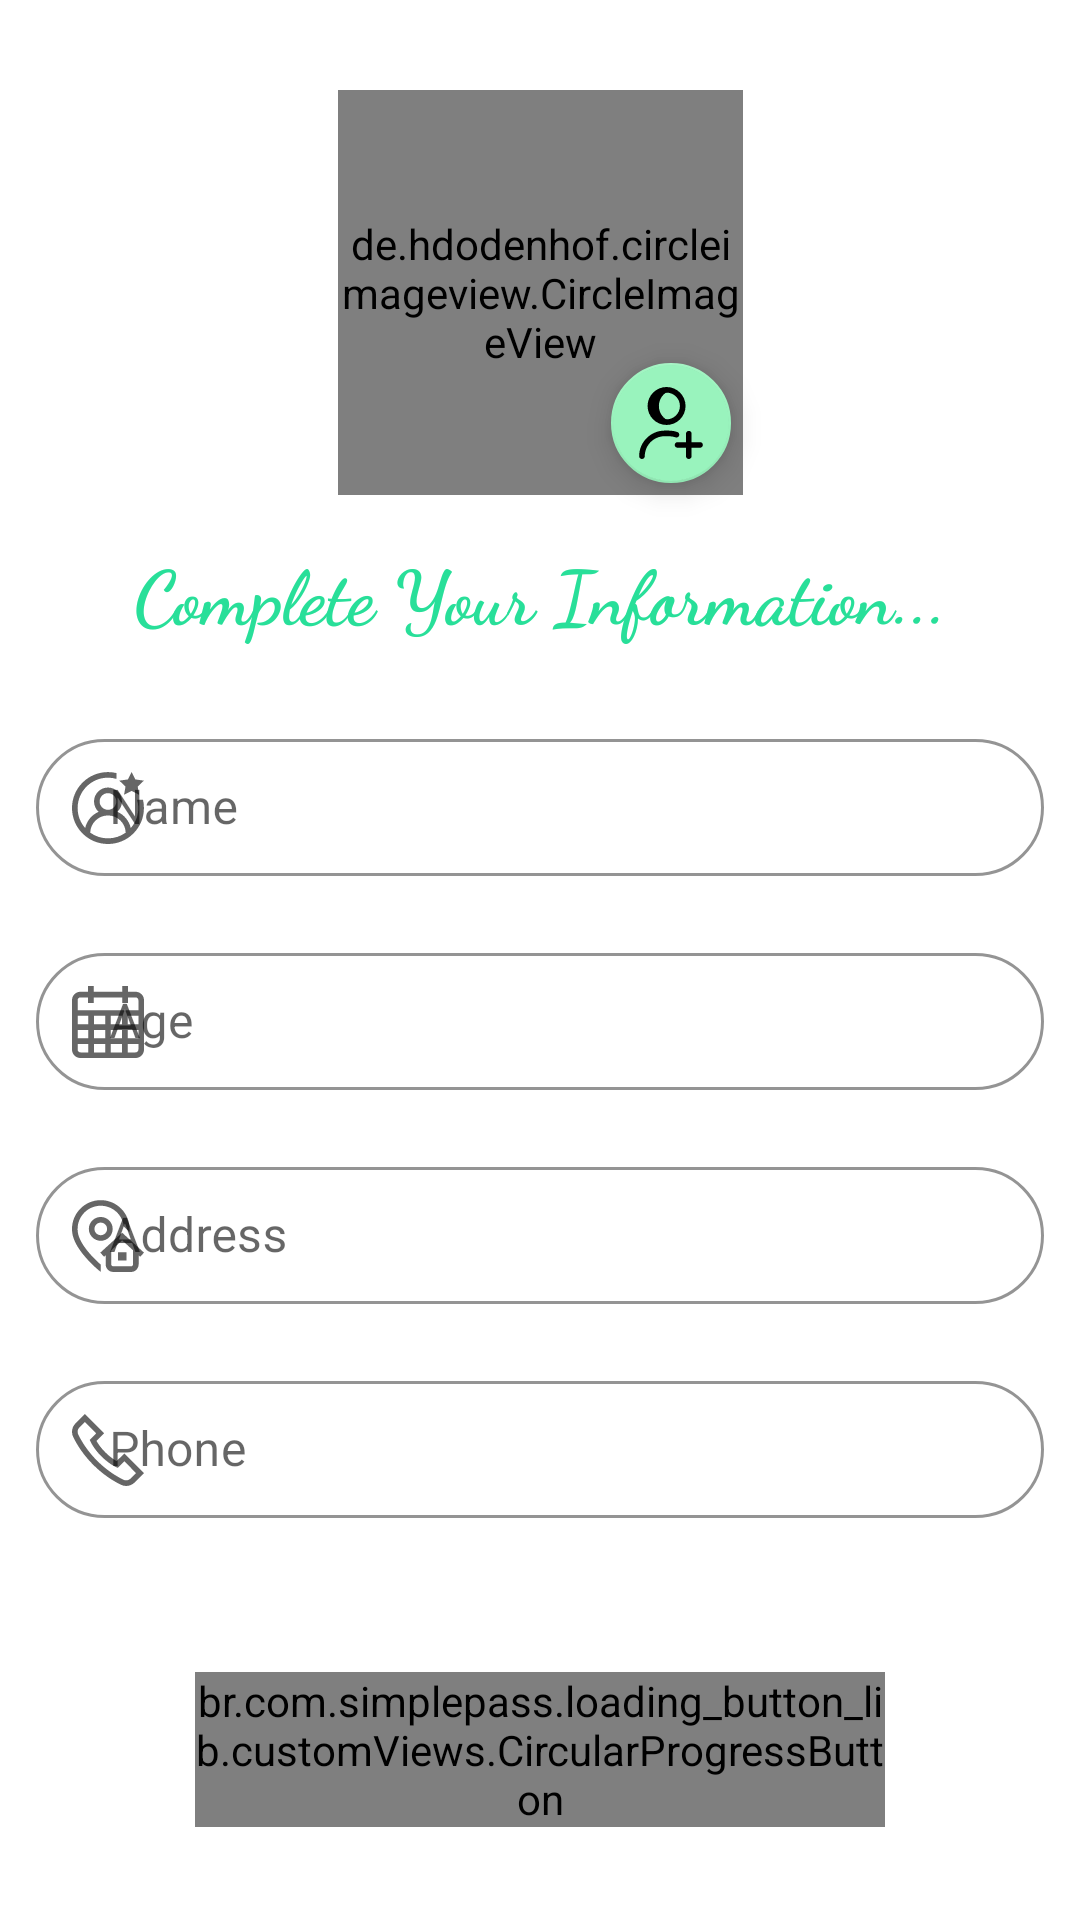

Named icons in this screenshot (1080 × 1920) and their bounding boxes, (x1, y1, x2, y2):
add user: (611, 363, 731, 483)
